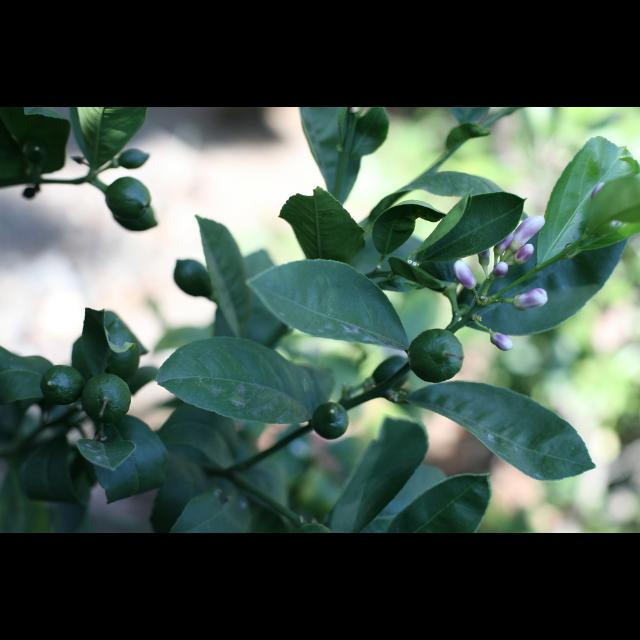Flower: (512, 214, 546, 253), (508, 285, 552, 311)
